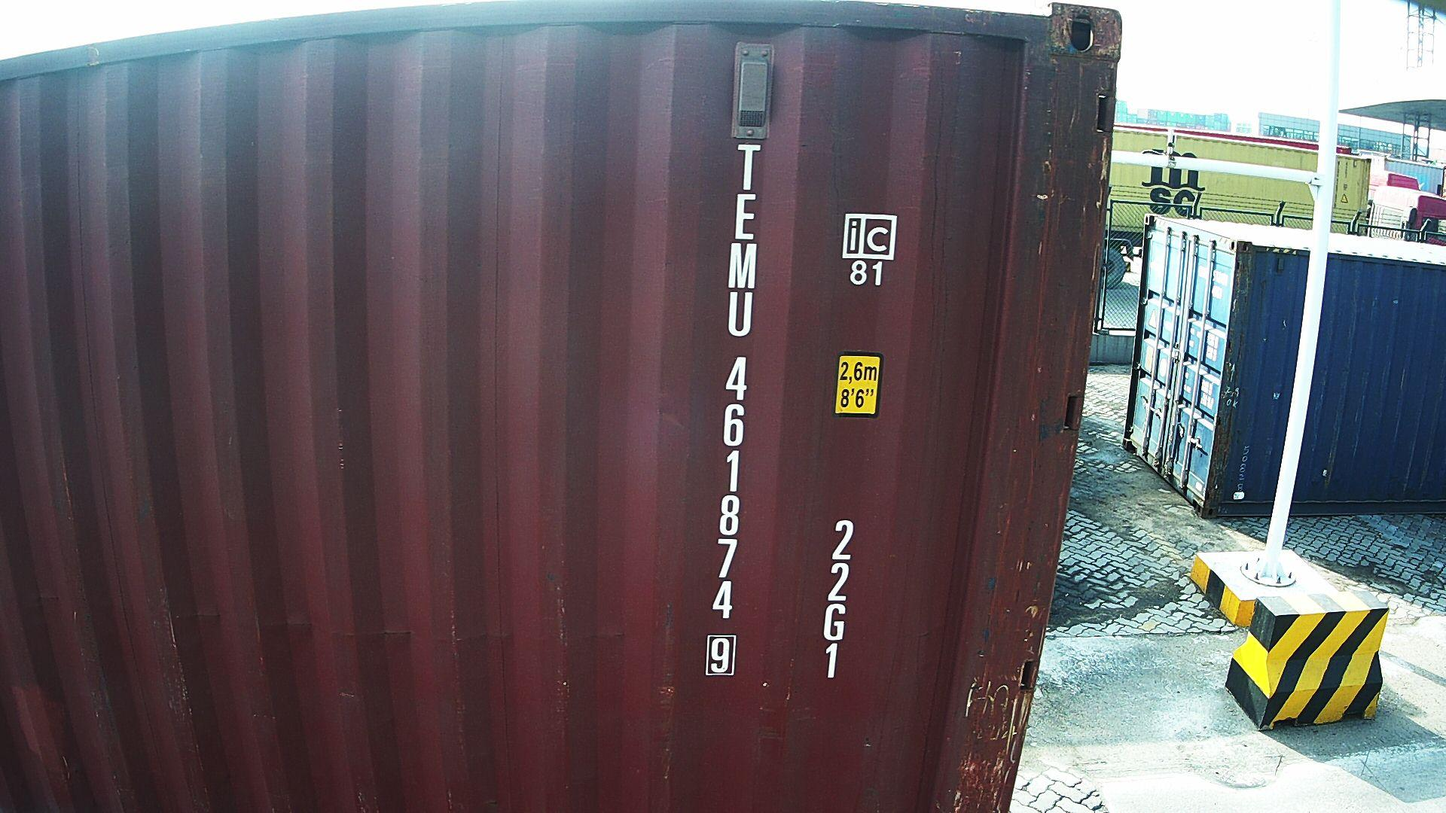container-numbers: (700, 137, 765, 685), (816, 513, 858, 685)
